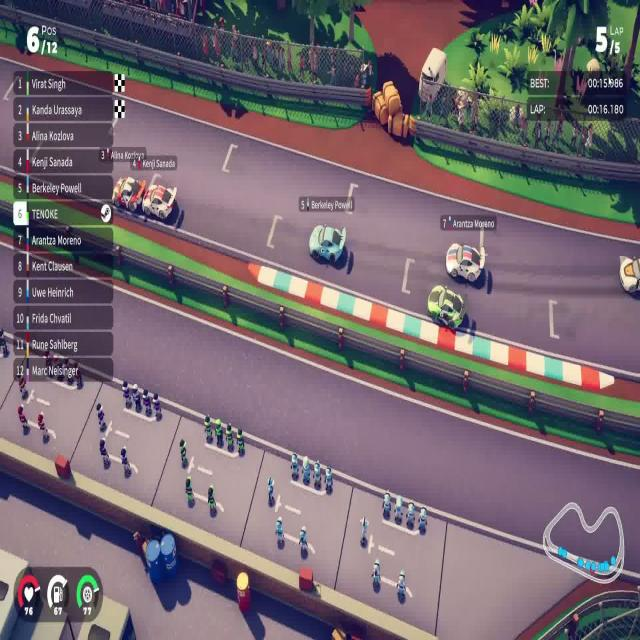car: (443, 240, 490, 281), (426, 283, 465, 332), (308, 222, 347, 266), (142, 176, 177, 222), (111, 175, 146, 213)
